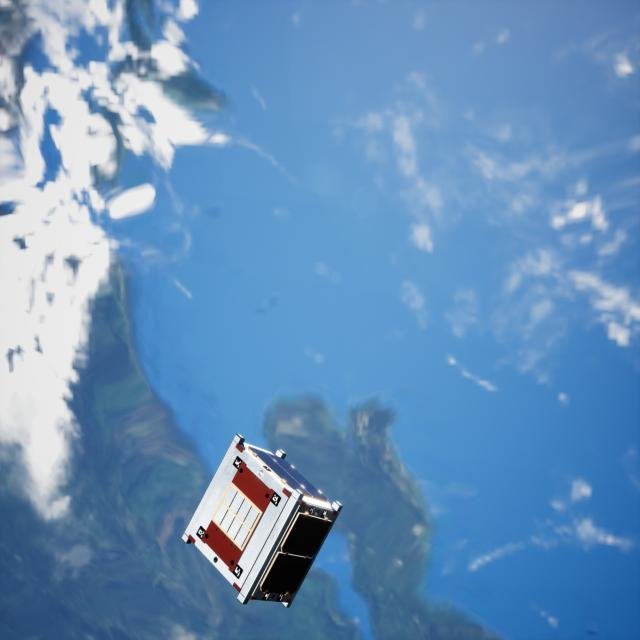satellite: (174, 434, 348, 608)
